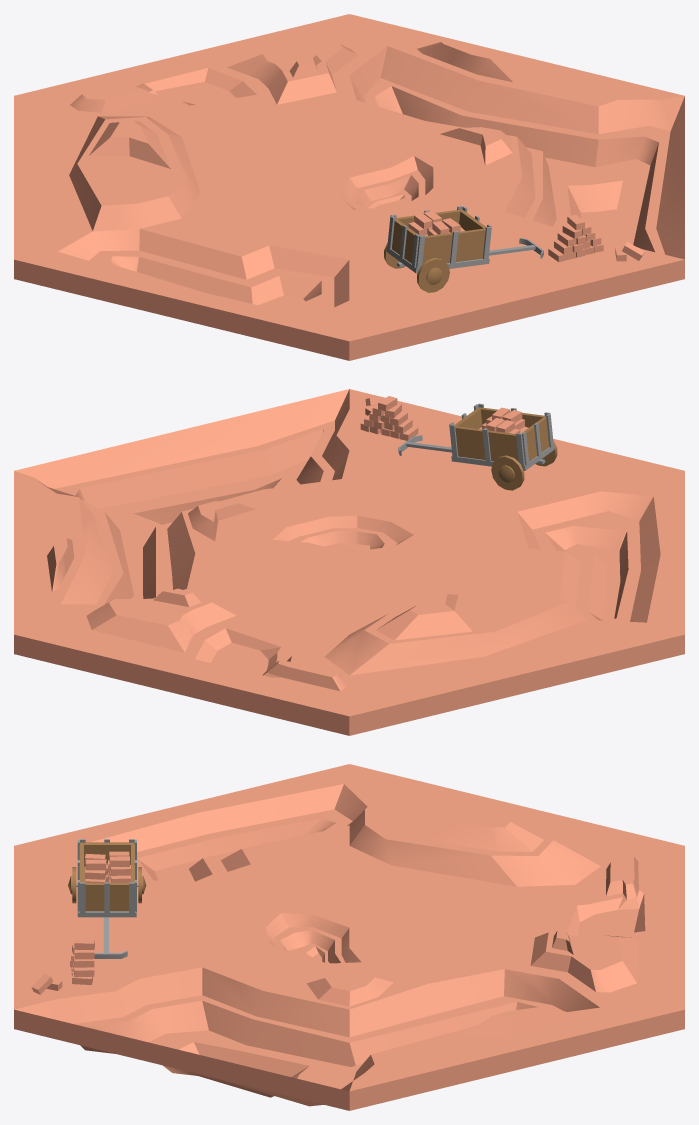
The model's file is brick_tile_empty01.fbx.
3 renders of one model, top to bottom at view 1: azimuth 30°, elevation 25°; view 2: azimuth 150°, elevation 25°; view 3: azimuth 270°, elevation 25°, orthographic.
Parts seen in each view (by area): view 1: brick_tile_empty; view 2: brick_tile_empty; view 3: brick_tile_empty.
Part boxes in pixels (x1,y1,x2,y2): brick_tile_empty: [14, 14, 684, 360]; brick_tile_empty: [14, 389, 684, 735]; brick_tile_empty: [14, 764, 684, 1110].
Size of the model in its own units: 139 by 22.66 by 120.
